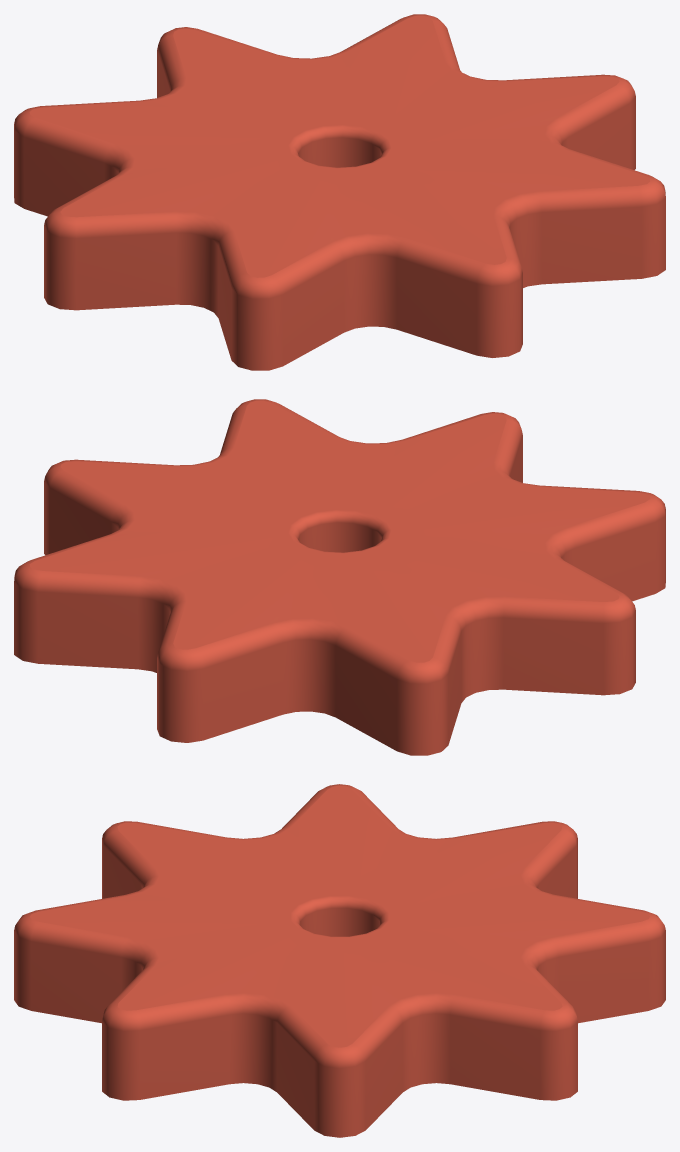
The model's file is SM_Obstacle_V1_01b.fbx.
3 renders of one model, top to bottom at view 1: azimuth 30°, elevation 25°; view 2: azimuth 150°, elevation 25°; view 3: azimuth 270°, elevation 25°, orthographic. The views are drawn at different scales.
Parts seen in each view (by area): view 1: SM_Obstacle_V1_01b; view 2: SM_Obstacle_V1_01b; view 3: SM_Obstacle_V1_01b.
Boxes of the visible parts, bbox=[...] form: SM_Obstacle_V1_01b: bbox=[14, 14, 665, 370]; SM_Obstacle_V1_01b: bbox=[14, 399, 665, 755]; SM_Obstacle_V1_01b: bbox=[14, 784, 665, 1137].
Bounding box in the file's own units: 303 × 42.74 × 303.
